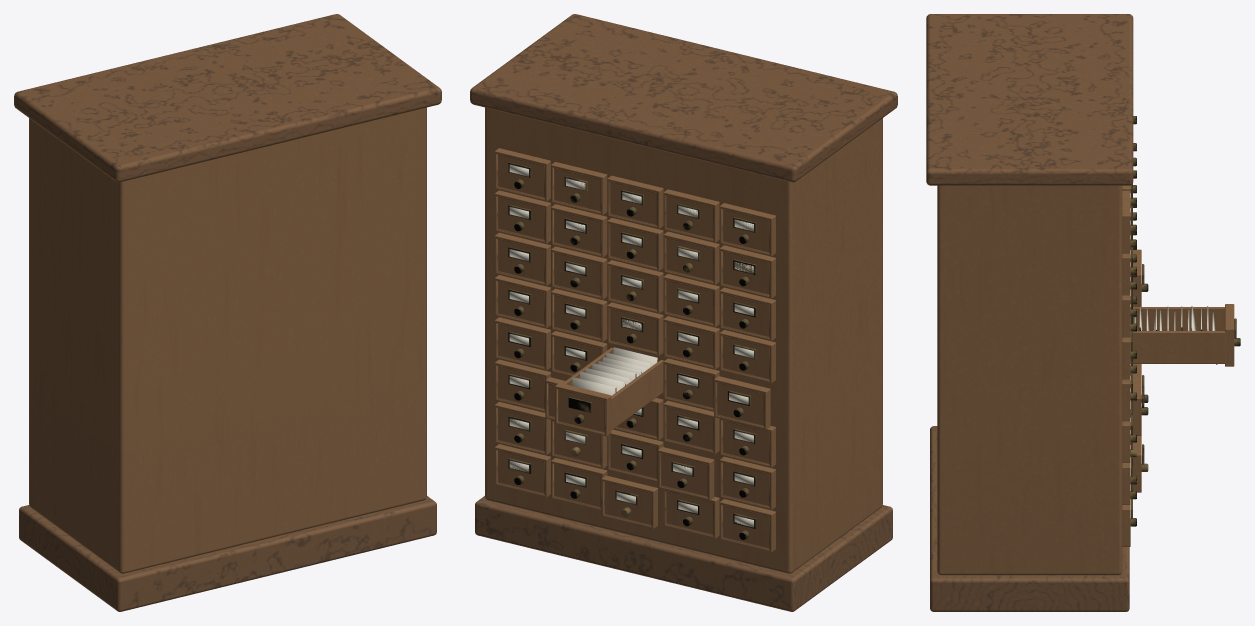
The model's file is fichero.glb.
The picture shows the model from 3 angles, left to right: view 1: azimuth 30°, elevation 25°; view 2: azimuth 150°, elevation 25°; view 3: azimuth 270°, elevation 25°; orthographic projection.
Visible parts, largest first — view 1: fichero; view 2: fichero; view 3: fichero.
Boxes of the visible parts, box(x1,y1,x2,y2) form: fichero: box(14, 14, 441, 611); fichero: box(470, 14, 897, 611); fichero: box(926, 14, 1240, 611).
Size of the model in its own units: 1.01 by 1.32 by 0.85.
1 material, 1 textured.
